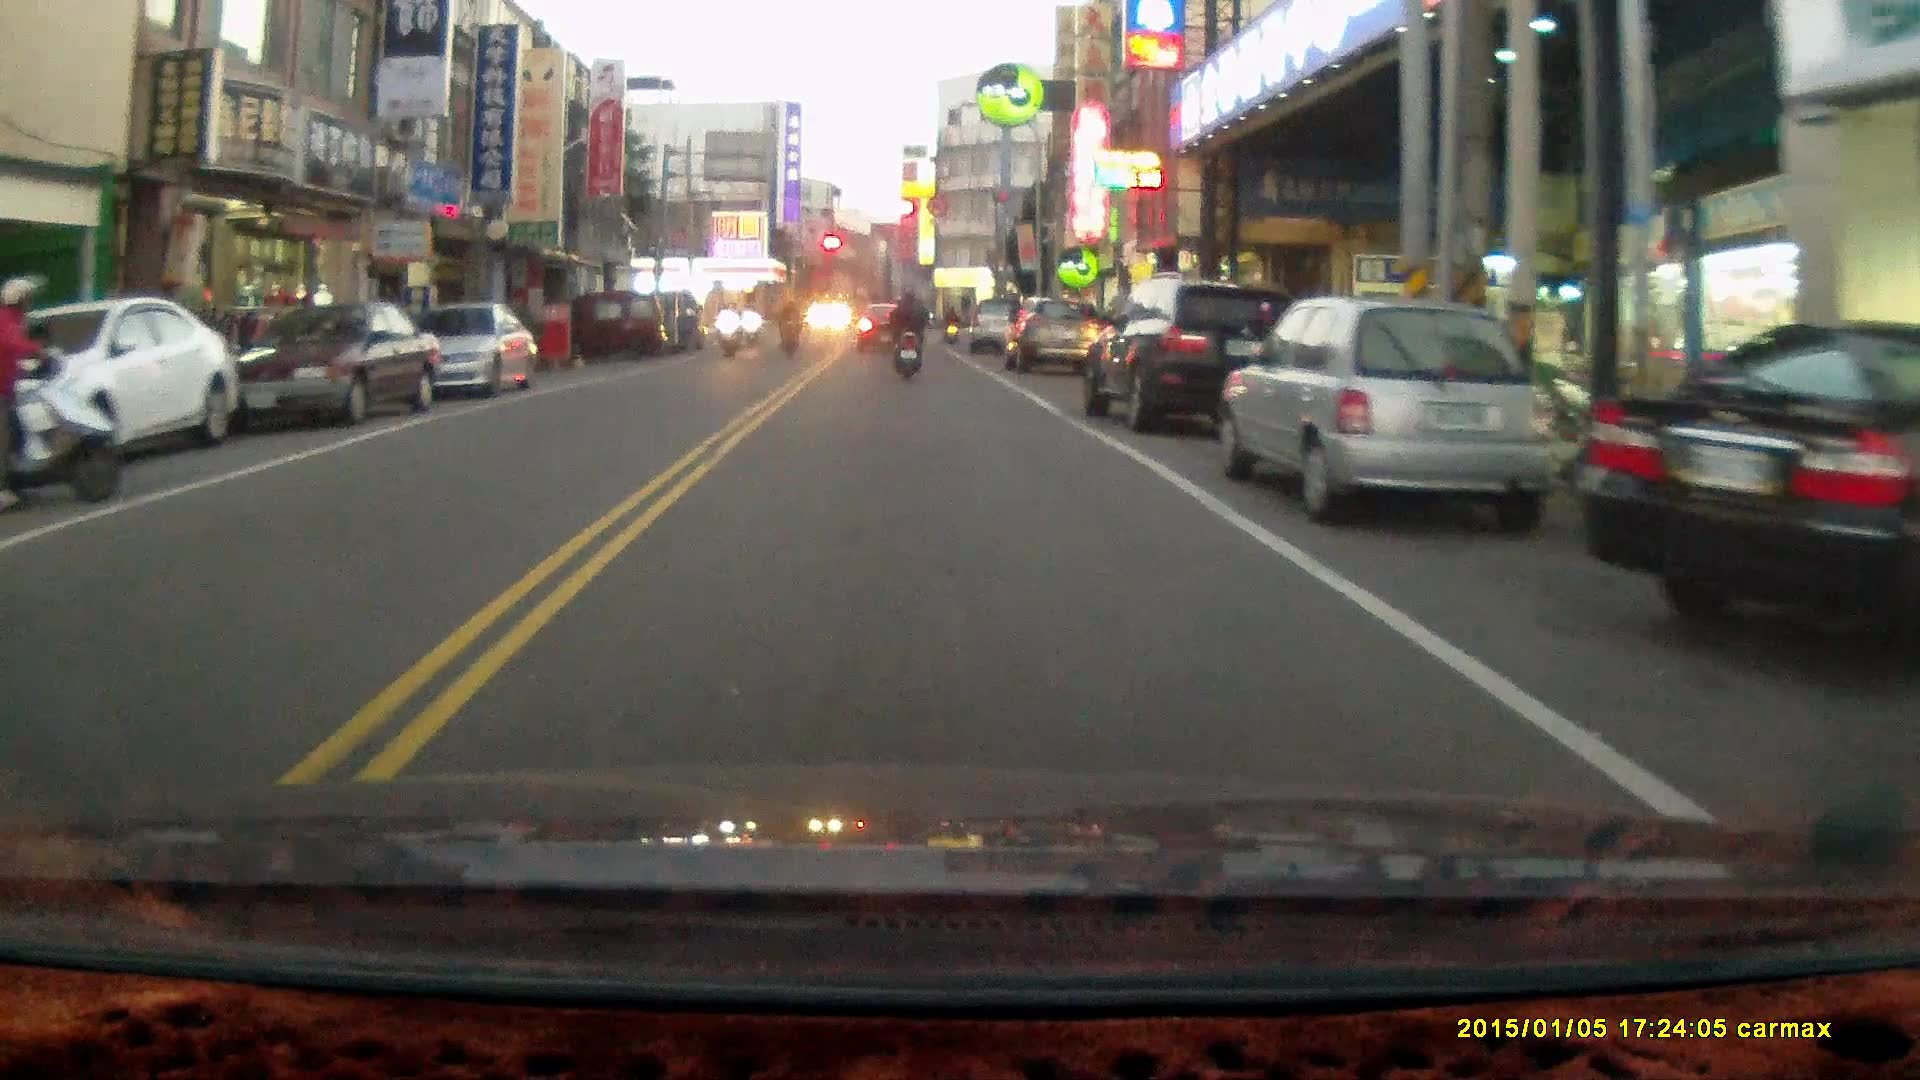rider: (0, 267, 125, 502), (885, 287, 926, 381), (716, 296, 743, 355), (775, 296, 802, 352), (737, 296, 762, 351), (939, 301, 961, 345)
vehicle: (1583, 310, 1920, 674), (1209, 297, 1564, 525), (2, 287, 250, 476), (1078, 274, 1300, 435), (200, 295, 439, 424), (396, 297, 539, 400), (1006, 291, 1098, 368), (584, 291, 666, 358), (969, 295, 1034, 352)
